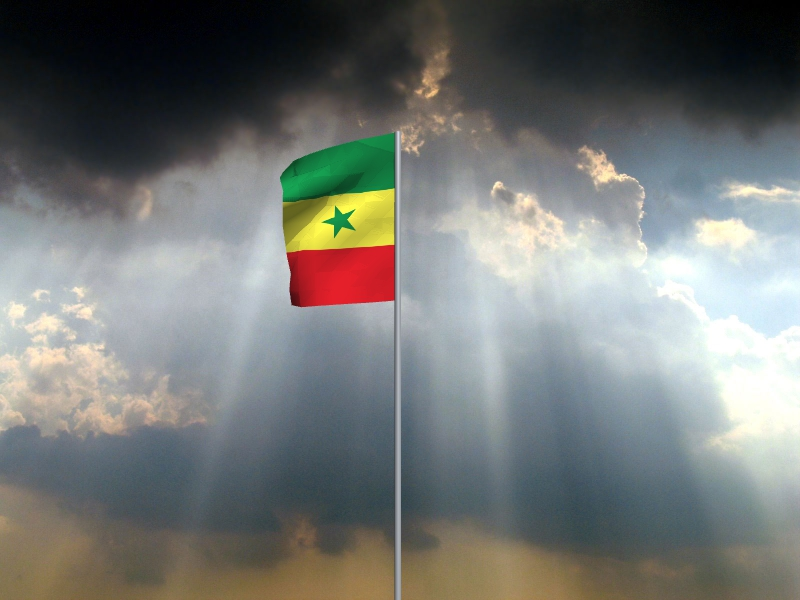sn: (280, 133, 395, 308)
